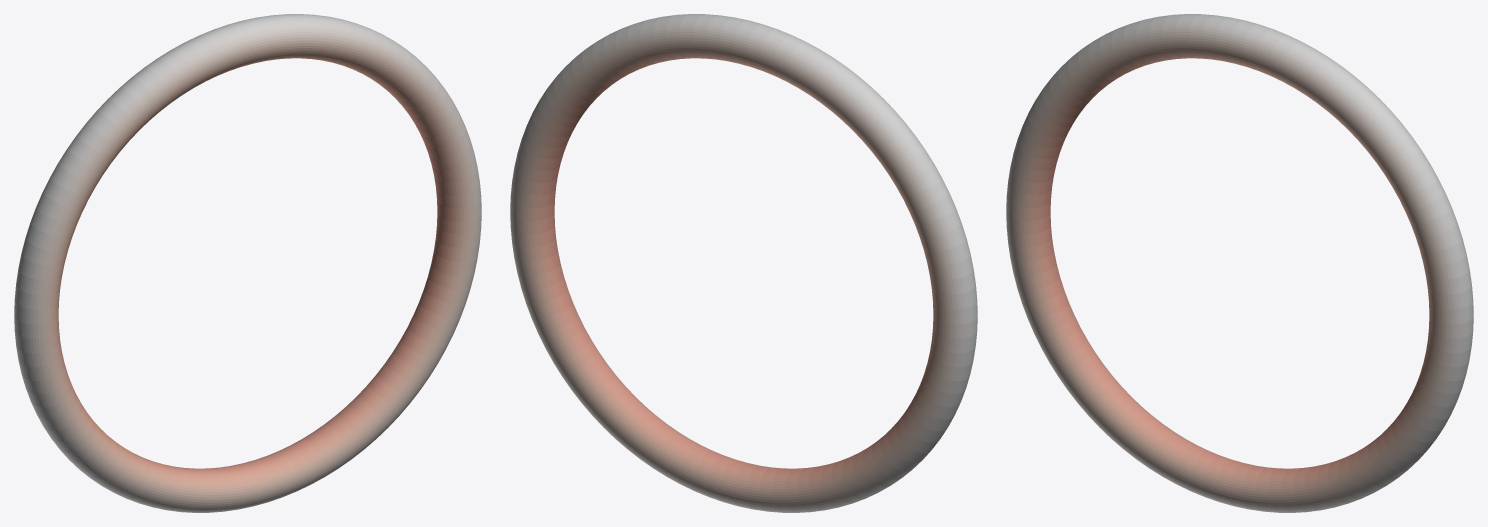
The picture shows the model from 3 angles, left to right: view 1: azimuth 30°, elevation 25°; view 2: azimuth 150°, elevation 25°; view 3: azimuth 330°, elevation 25°; orthographic projection.
Visible parts, largest first — view 1: world; view 2: world; view 3: world.
Part boxes in pixels (x1,y1,x2,y2): world: (14, 14, 481, 512); world: (510, 14, 977, 512); world: (1006, 14, 1473, 512).
Bounding box in the file's own units: 24 × 24 × 2.
